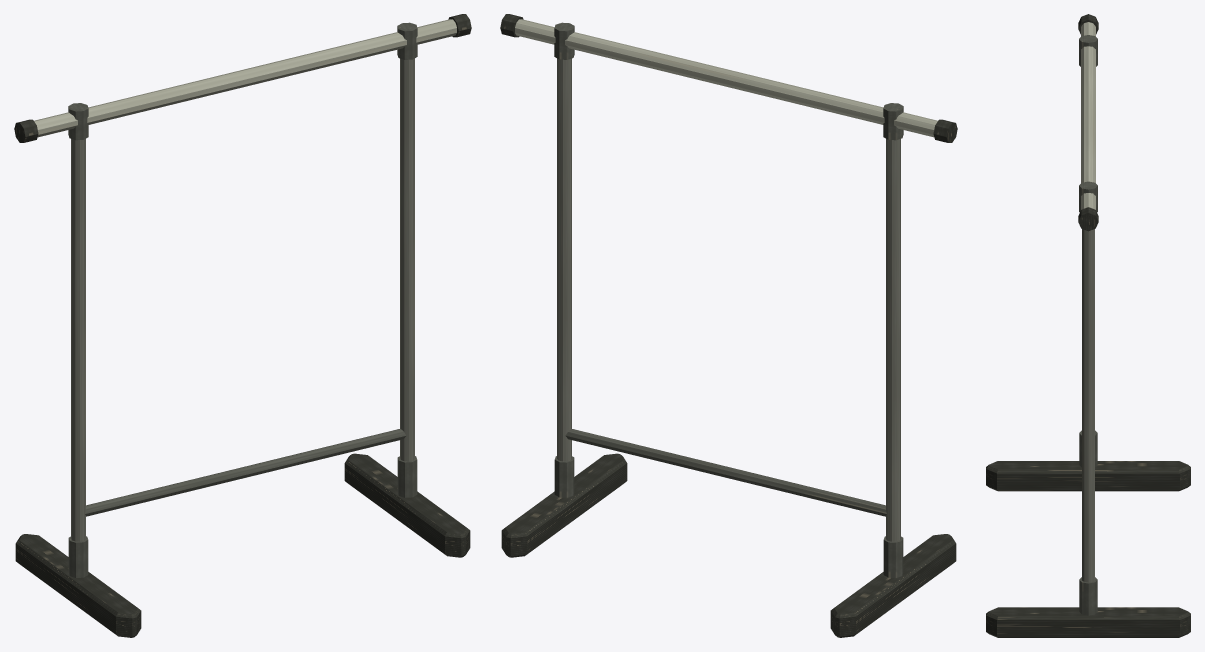
Rendered from clothing_rack.glb.
The picture shows the model from 3 angles, left to right: view 1: azimuth 30°, elevation 25°; view 2: azimuth 150°, elevation 25°; view 3: azimuth 270°, elevation 25°; orthographic projection. The views are drawn at different scales.
Visible parts, largest first — view 1: Steel Clothing Rack; view 2: Steel Clothing Rack; view 3: Steel Clothing Rack.
Part boxes in pixels (x1,y1,x2,y2): Steel Clothing Rack: (14,14,471,637); Steel Clothing Rack: (500,14,957,637); Steel Clothing Rack: (986,14,1190,637).
Size of the model in its own units: 1.43 by 1.5 by 0.622.
Materials: 1 (1 with a texture image).
